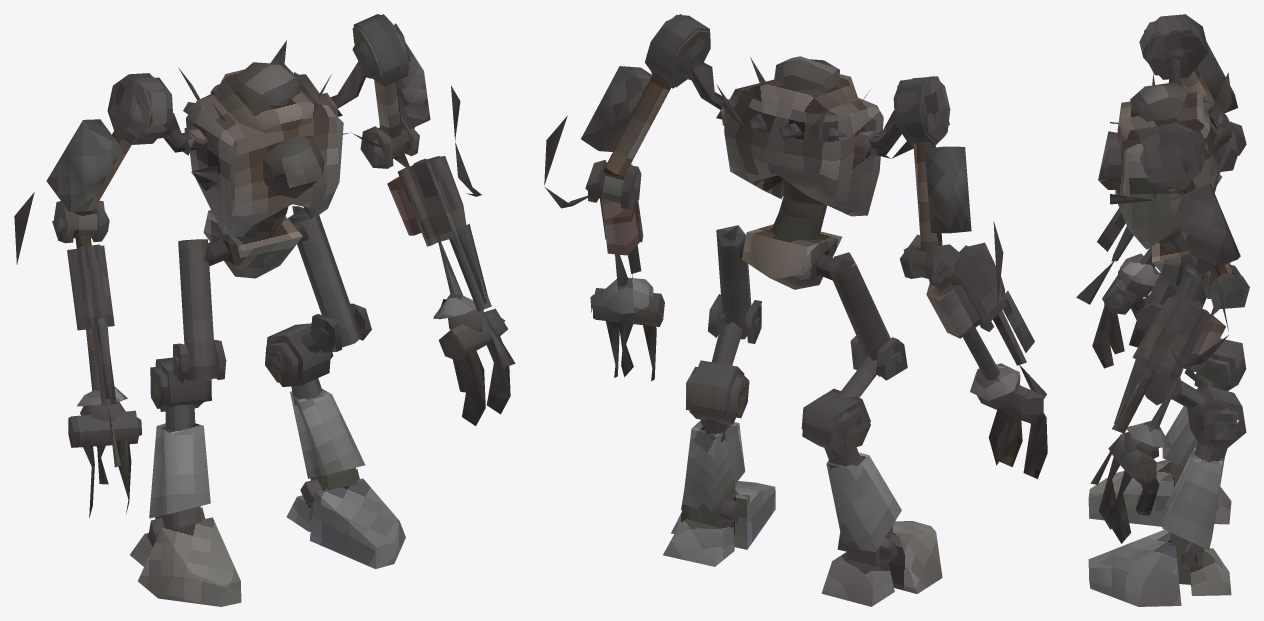
Rendered from npc-bumstrum-lod.glb.
The picture shows the model from 3 angles, left to right: view 1: azimuth 30°, elevation 25°; view 2: azimuth 150°, elevation 25°; view 3: azimuth 270°, elevation 25°; orthographic projection. The views are drawn at different scales.
Visible parts, largest first — view 1: Object_7_baked; view 2: Object_7_baked; view 3: Object_7_baked.
Boxes of the visible parts, x1=… form: Object_7_baked: x1=14, y1=14, x2=515, y2=606; Object_7_baked: x1=544, y1=14, x2=1047, y2=606; Object_7_baked: x1=1076, y1=14, x2=1249, y2=606.
Size of the model in its own units: 432 by 469 by 154.
1 material, 1 textured.
